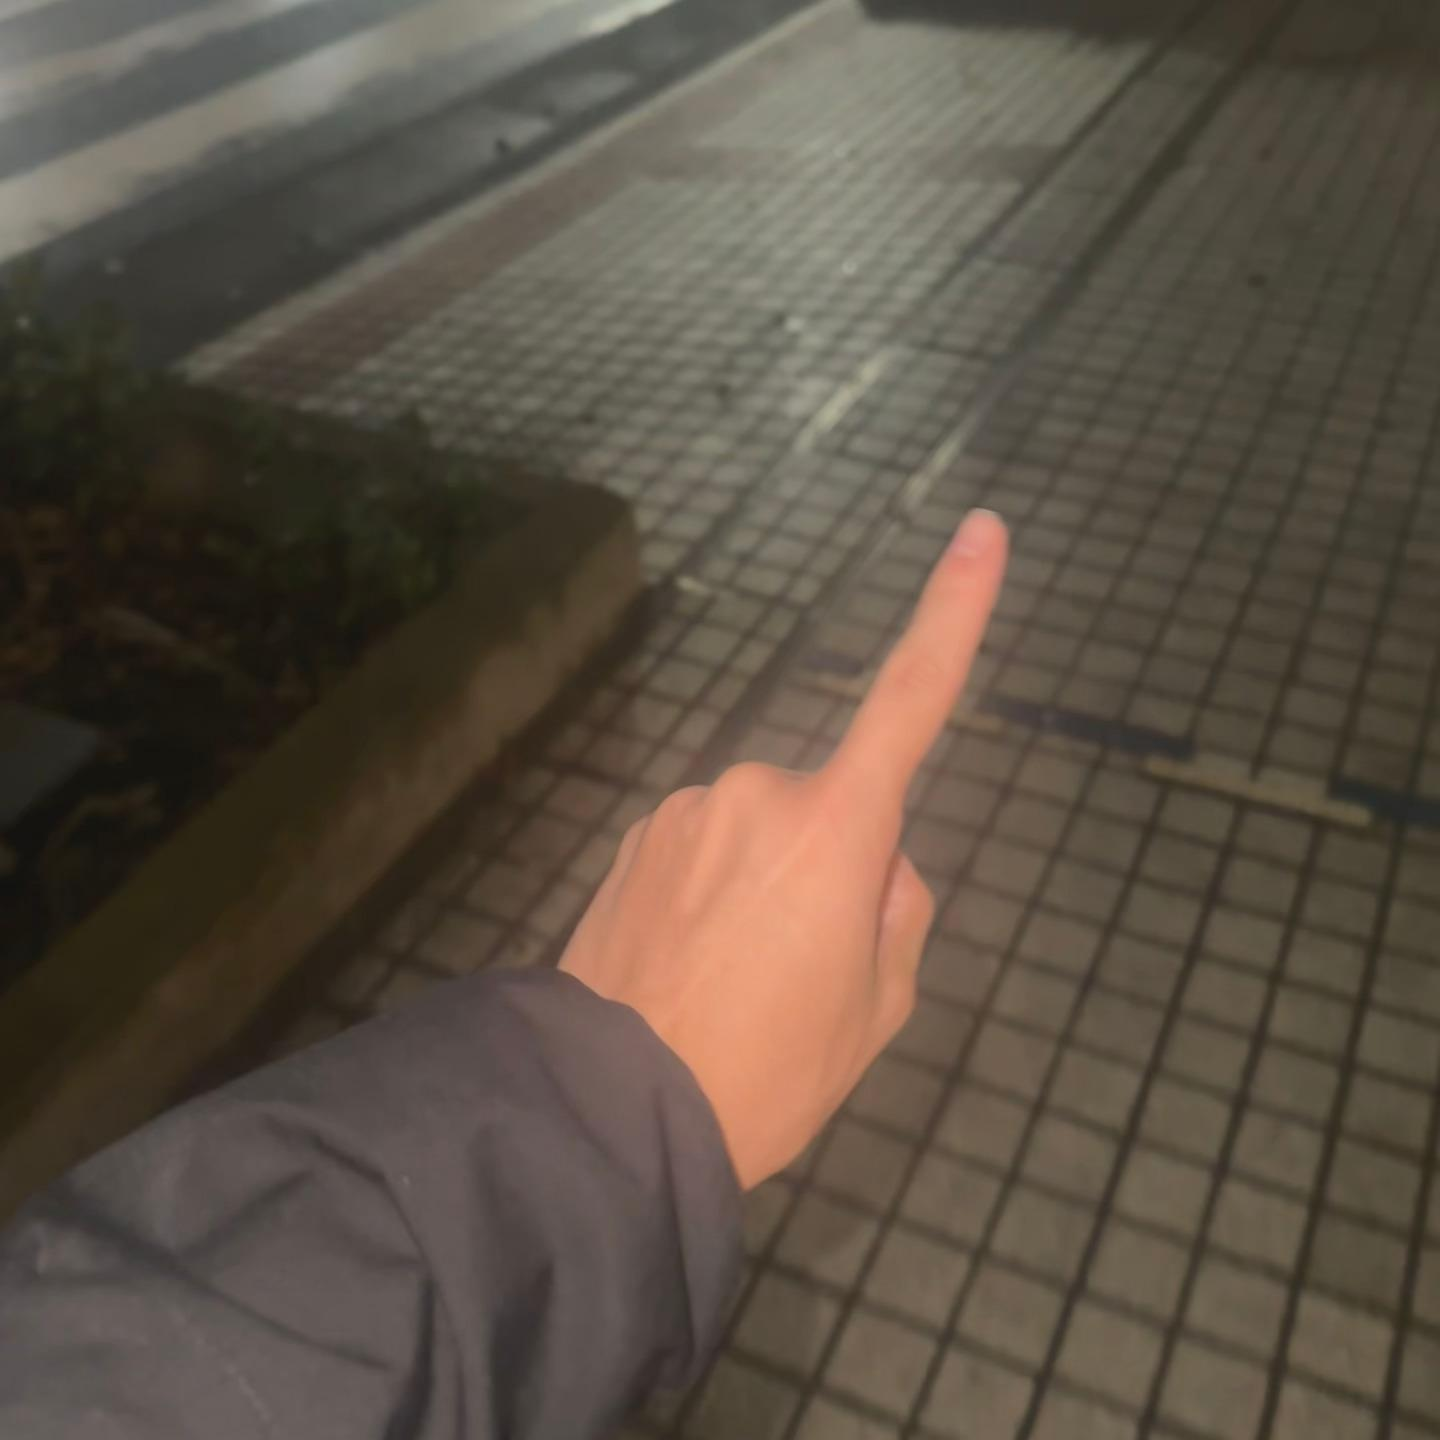without_gloves: (458, 455, 1038, 1126)
